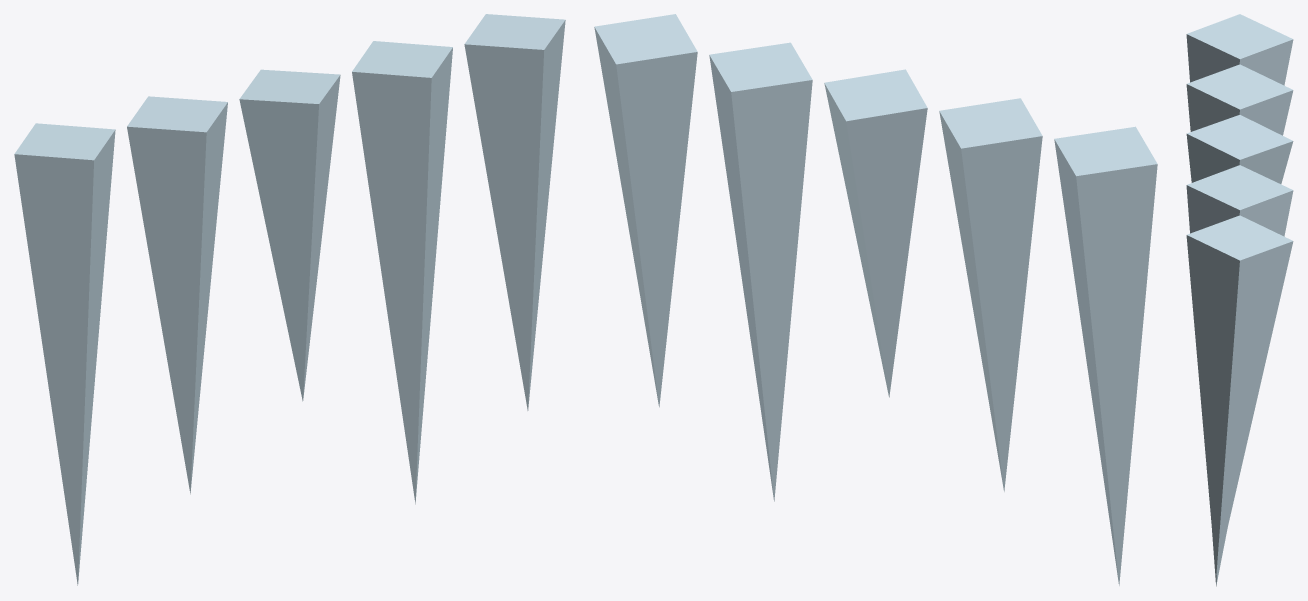
File: Tundra_Accent.fbx
The picture shows the model from 3 angles, left to right: view 1: azimuth 30°, elevation 25°; view 2: azimuth 150°, elevation 25°; view 3: azimuth 270°, elevation 25°; orthographic projection. The views are drawn at different scales.
Visible parts, largest first — view 1: Tundra_Accent; view 2: Tundra_Accent; view 3: Tundra_Accent.
Part boxes in pixels (bbox=[...]): Tundra_Accent: bbox=[14, 14, 565, 585]; Tundra_Accent: bbox=[594, 14, 1157, 585]; Tundra_Accent: bbox=[1186, 14, 1293, 586].
Bounding box in the file's own units: 49 × 37.35 × 8.99.
